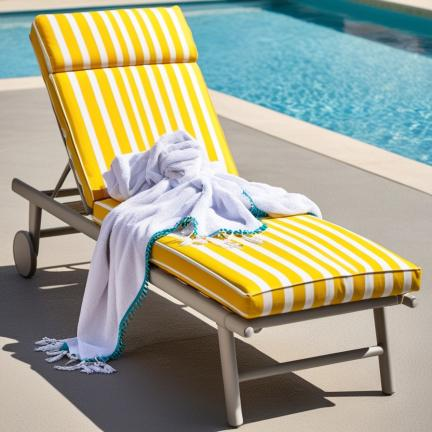occupied chair: (12, 7, 420, 426)
